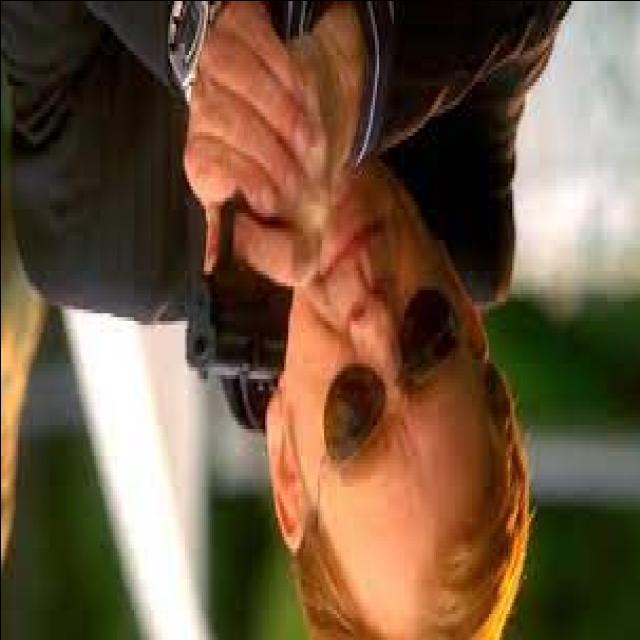weapons: (158, 109, 322, 435)
